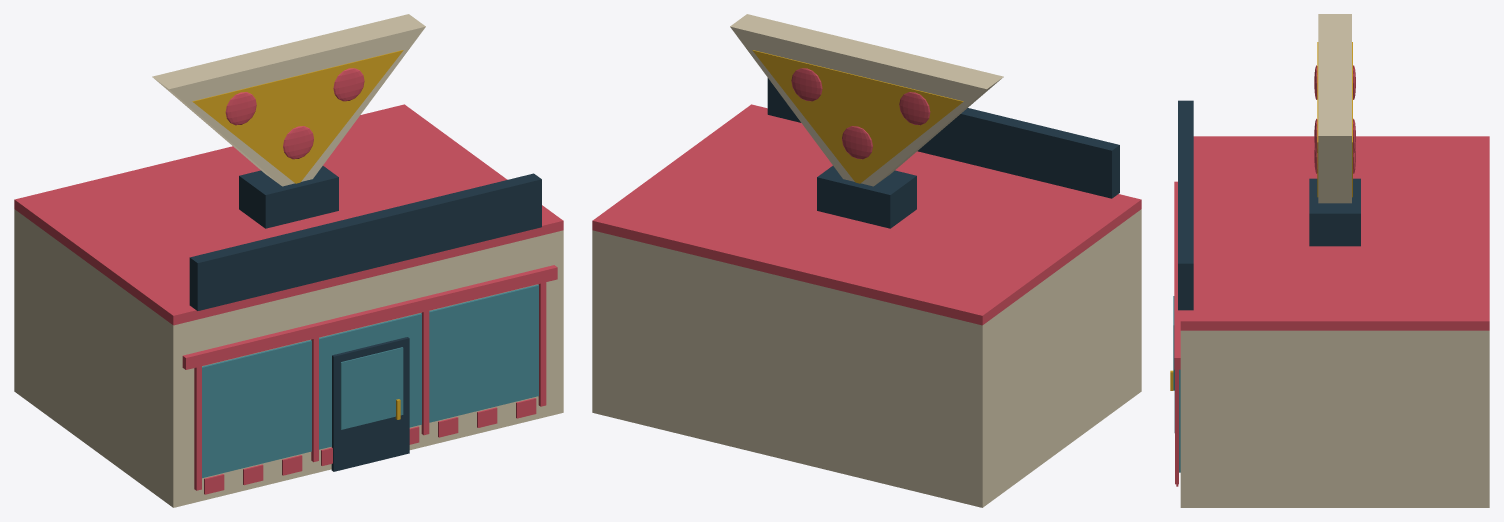
The model's file is pizza.glb.
3 views of the same model, side by side, from view 1: azimuth 30°, elevation 25°; view 2: azimuth 150°, elevation 25°; view 3: azimuth 270°, elevation 25° (orthographic). The views are drawn at different scales.
Parts seen in each view (by area): view 1: pizza; view 2: pizza; view 3: pizza.
Part boxes in pixels (x1,y1,x2,y2): pizza: (14,14,563,507); pizza: (592,14,1141,507); pizza: (1170,14,1489,507).
Bounding box in the file's own units: 8.5 × 7.3 × 6.2.
